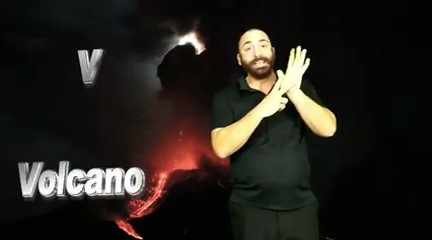V: (258, 42, 311, 120)
